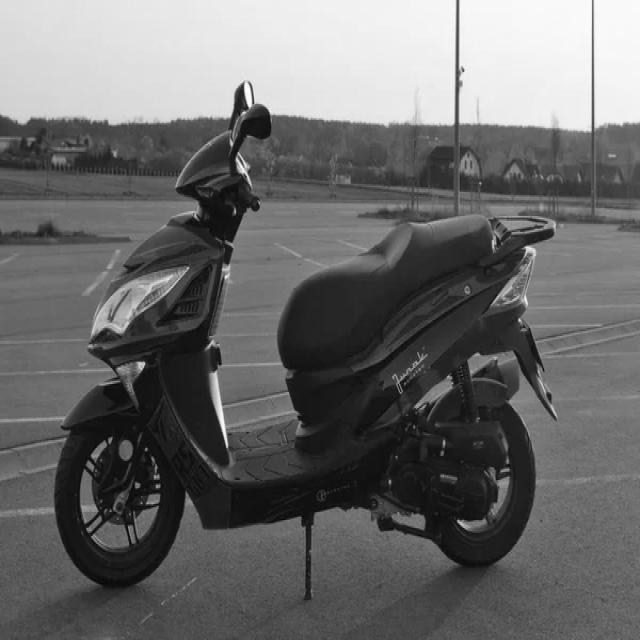Motorcycle: (54, 83, 557, 599)
